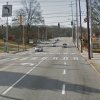crosswalk: (5, 56, 79, 61)
